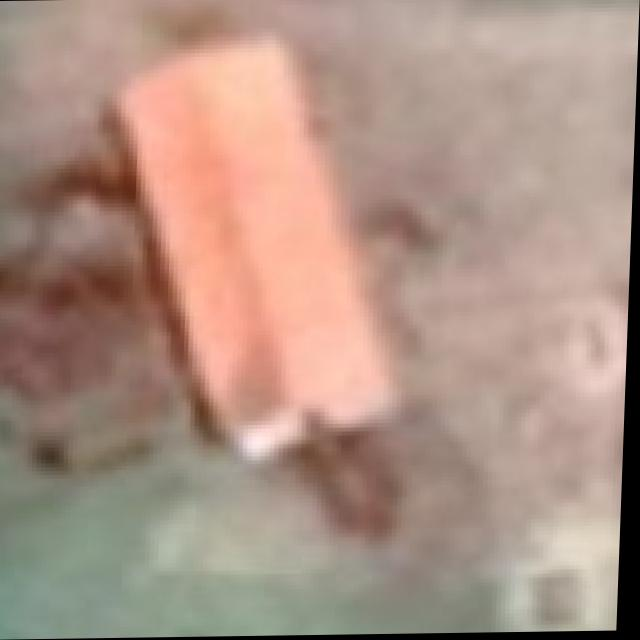Batiment: (119, 38, 401, 458)
